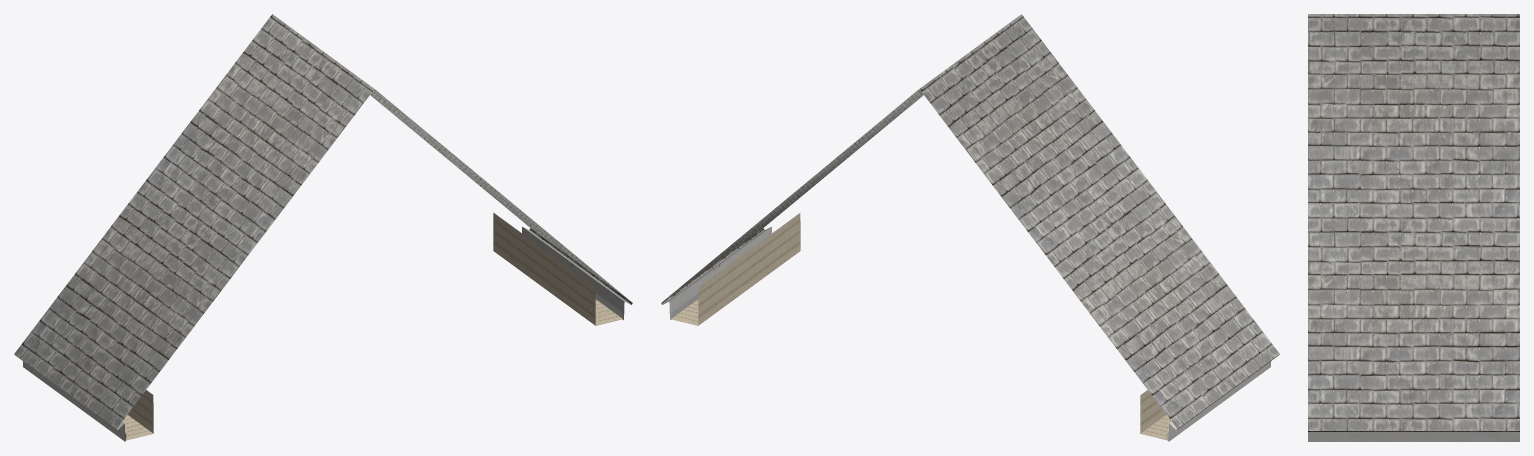
The model's file is Roof_5x_COL.FBX.
The picture shows the model from 3 angles, left to right: view 1: azimuth 30°, elevation 25°; view 2: azimuth 150°, elevation 25°; view 3: azimuth 270°, elevation 25°; orthographic projection. The views are drawn at different scales.
Visible parts, largest first — view 1: Roof_5x_COL; view 2: Roof_5x_COL; view 3: Roof_5x_COL.
Boxes of the visible parts, x1,y1,x2,y2 form: Roof_5x_COL: [14, 14, 632, 441]; Roof_5x_COL: [661, 14, 1279, 441]; Roof_5x_COL: [1308, 14, 1519, 441].
Size of the model in its own units: 584 by 316 by 201.
